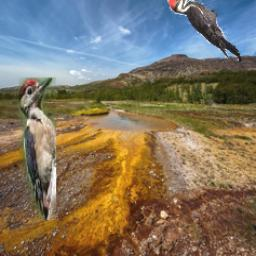Woodpecker: (19, 78, 57, 220), (167, 0, 245, 62)
